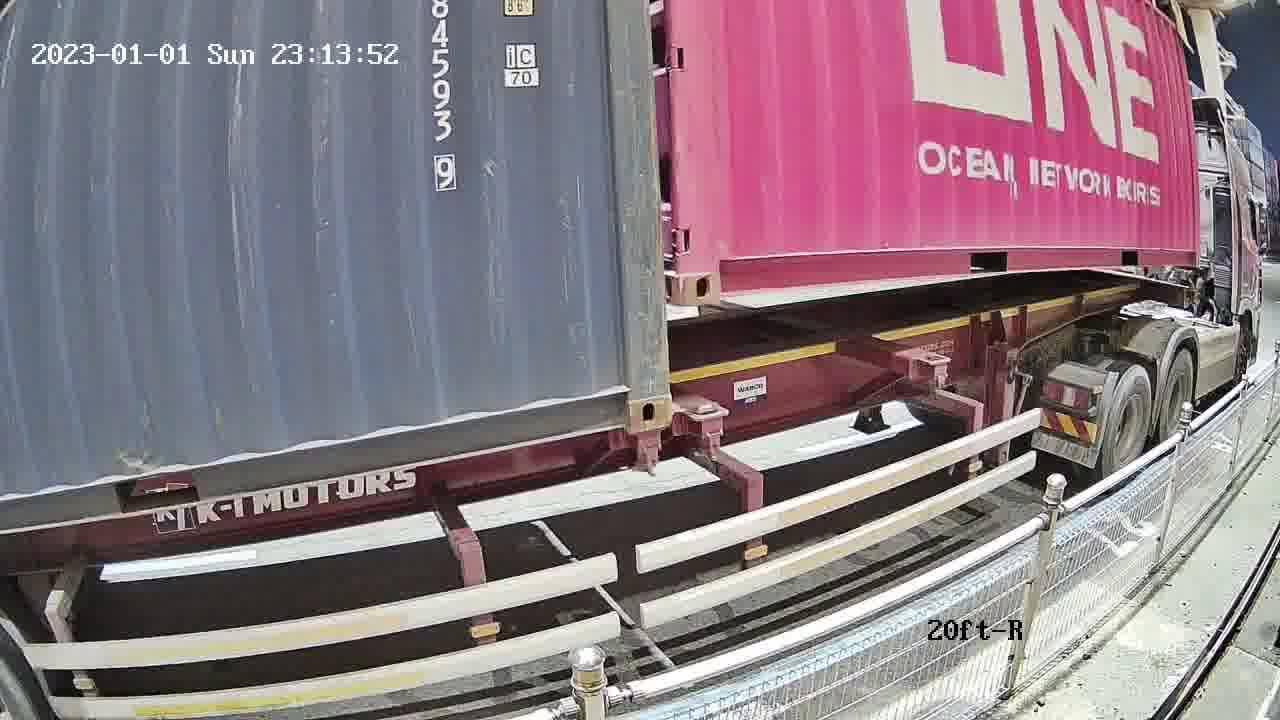Cone: (683, 401, 727, 463), (627, 430, 664, 479)
Hole_L: (679, 225, 762, 306)
Hole_R: (573, 349, 674, 436)
Tire: (1104, 369, 1153, 484), (1160, 354, 1193, 443)
